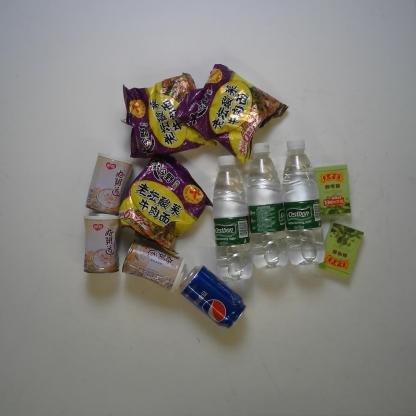Candy: (317, 221, 365, 278), (314, 160, 352, 217)
Canned Food: (122, 240, 188, 292), (88, 152, 134, 214), (81, 210, 123, 275)
Drink: (209, 152, 254, 284), (282, 138, 329, 264), (248, 140, 286, 268), (178, 265, 247, 330)
Instant Noodles: (180, 61, 290, 166), (115, 148, 215, 260), (119, 72, 216, 161)
